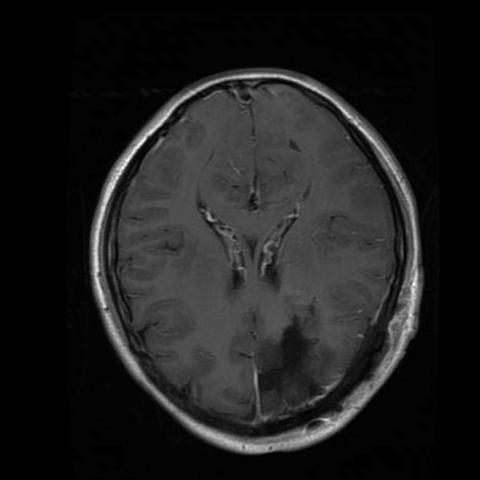Tumour-Glioma: (239, 315, 337, 409)
